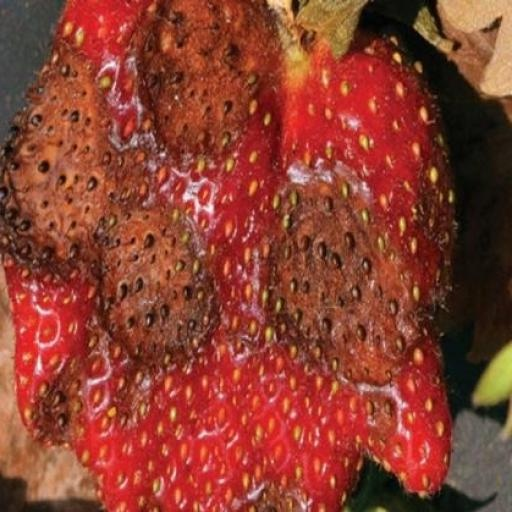Anthracnose Fruit Rot: (53, 0, 511, 511)
